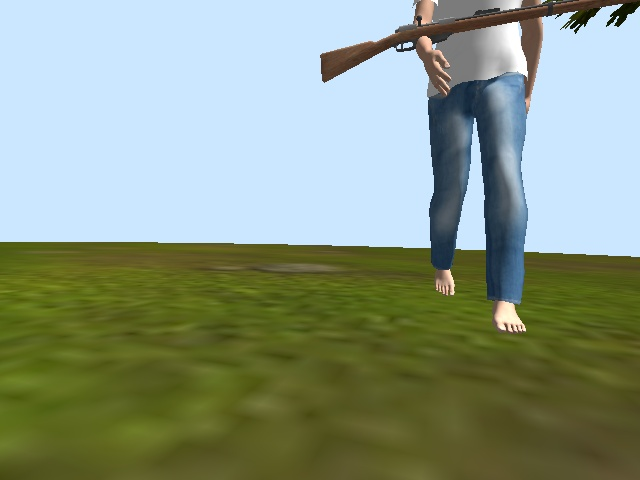animal: (412, 1, 547, 334)
rifle: (319, 0, 629, 85)
